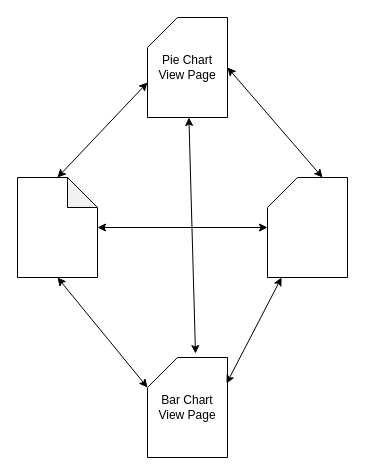
This 365x475 diagram has some shape labels left out. The shapes that lost their labels are listed below. From the top down, each one's centre as x and y in pixels, then its label:
At (57,227): "Home Page".
At (307,227): "Tabel View Page".
